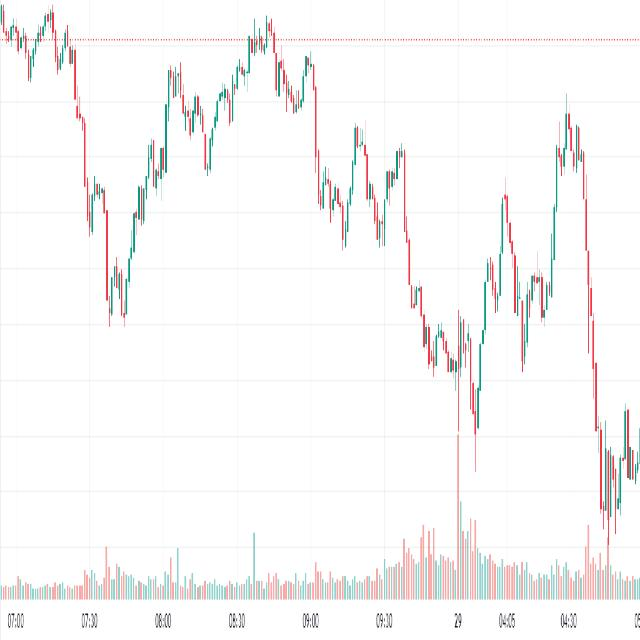Double-Bottom: (99, 209, 138, 336)
